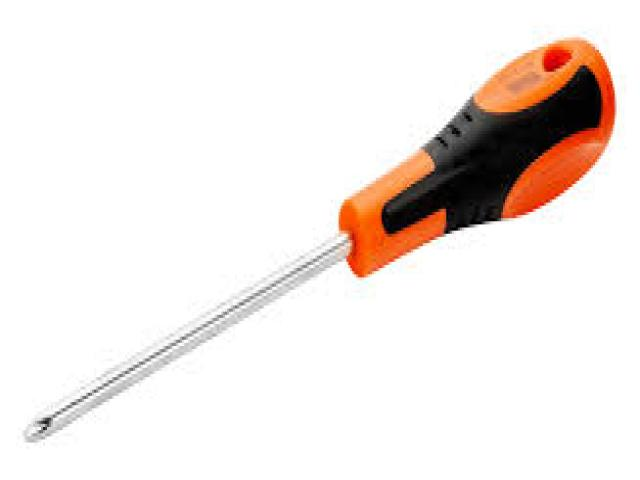Screwdriver: (25, 38, 615, 441)
